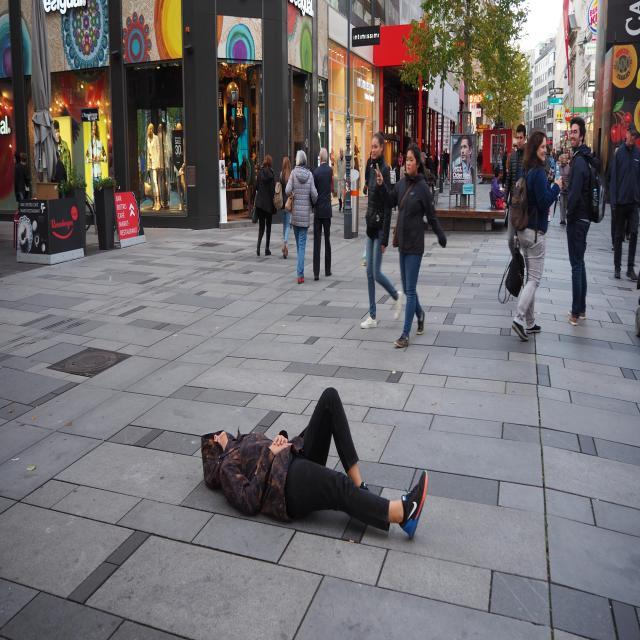fall: (190, 374, 438, 554)
